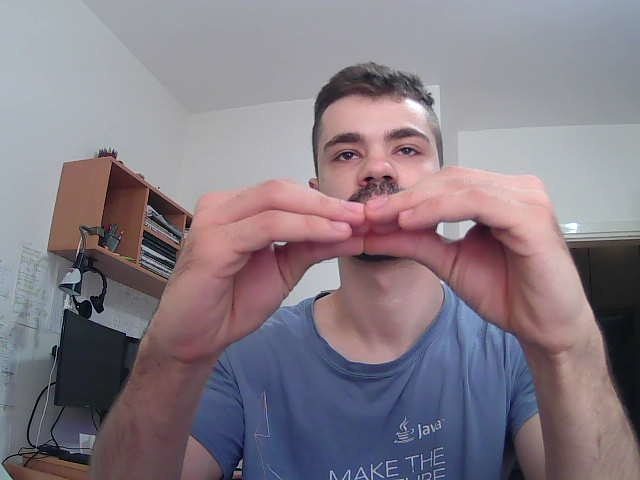b: (172, 156, 604, 377)
